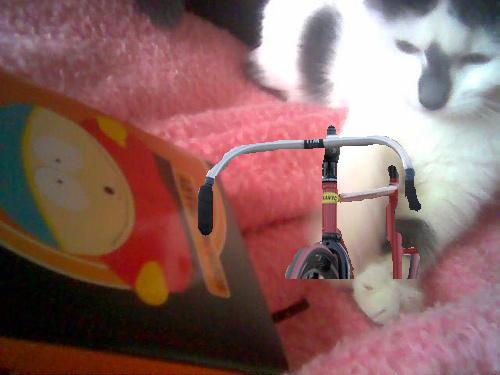tampered: (199, 126, 421, 279)
